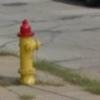a fire hydrant: (18, 19, 40, 85)
